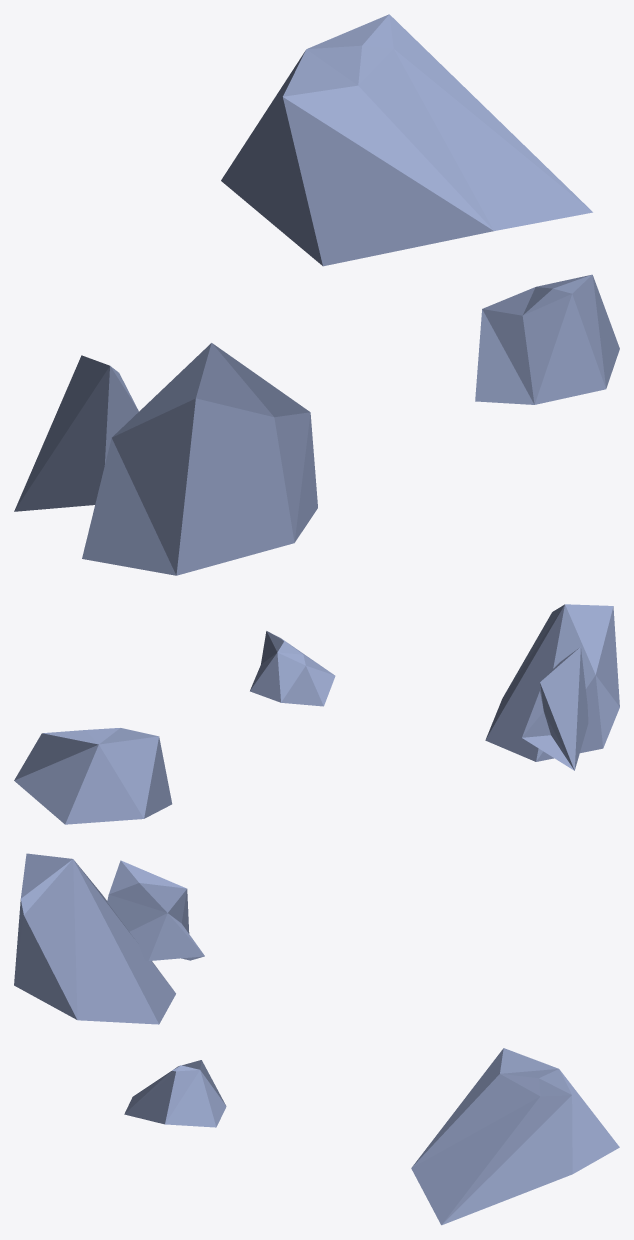
Rendered from plane_ice_rock02.FBX.
3 renders of one model, top to bottom at view 1: azimuth 30°, elevation 25°; view 2: azimuth 150°, elevation 25°; view 3: azimuth 270°, elevation 25°, orthographic. The views are drawn at different scales.
Visible parts, largest first — view 1: rock004; view 2: rock004; view 3: rock004.
Part boxes in pixels (x1,y1,x2,y2): rock004: (14,14,619,575); rock004: (14,604,619,824); rock004: (14,853,619,1225).
Bounding box in the file's own units: 30.69 × 9.21 × 32.06.
